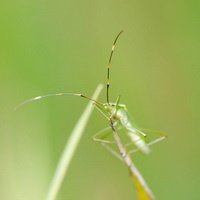insect: (15, 30, 166, 199)
